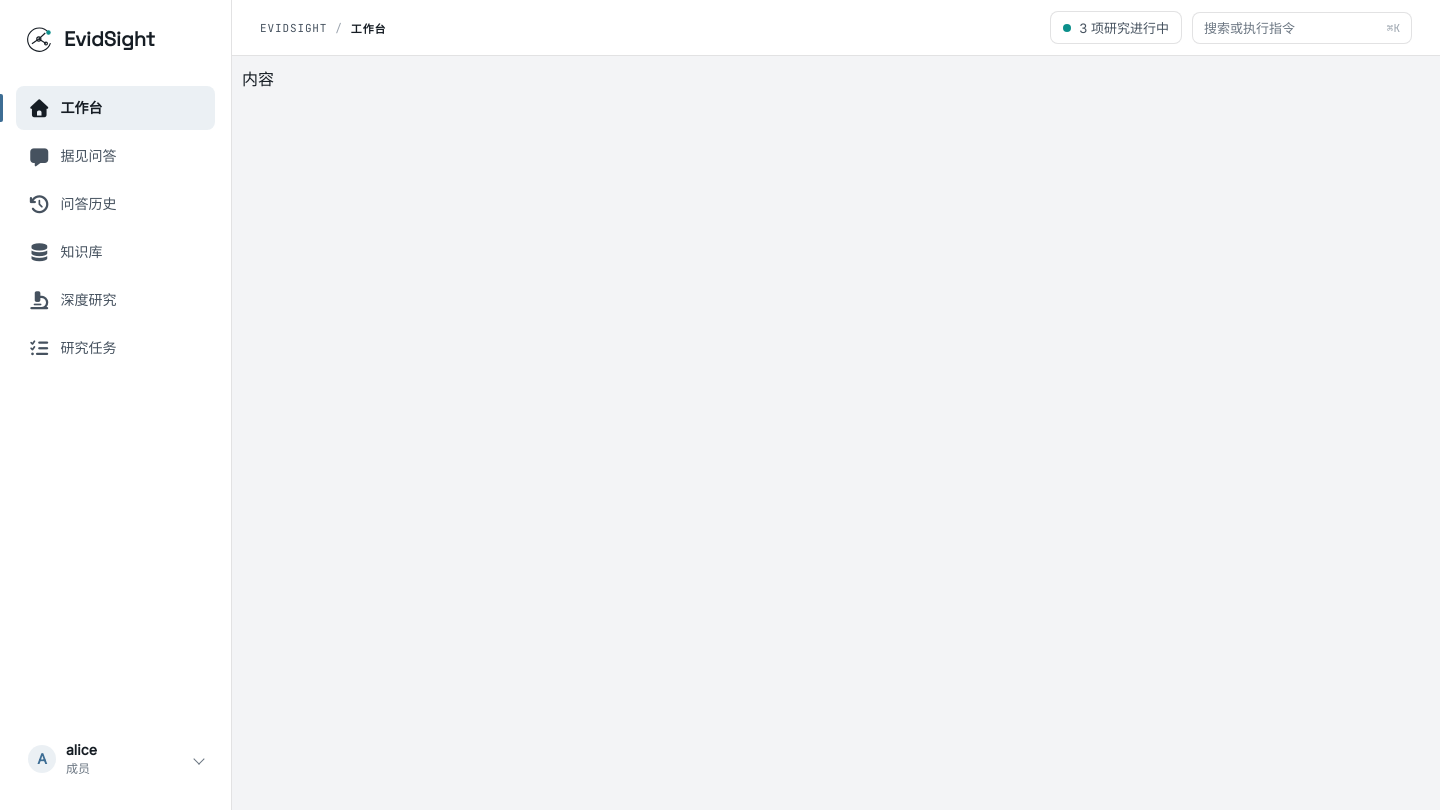
Test: 统一应用壳层 › 运行任务 Chip 常显真实数量，点击弹确认框，确认后跳转研究任务
Click the button "3 项研究进行中" at [1116, 28], box [1050,11,1182,44]
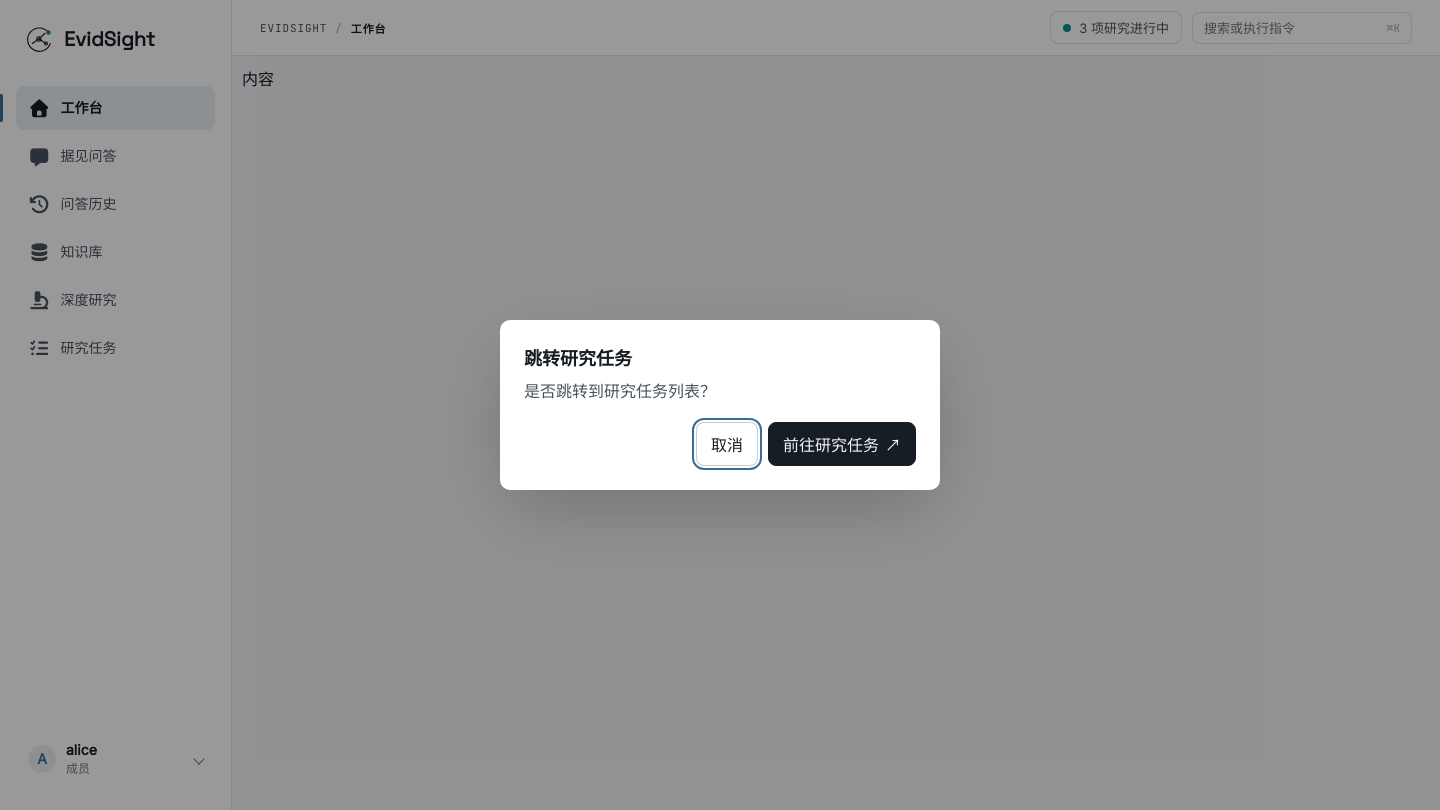
expect the dialog "跳转研究任务" is shown: met, box [500,320,940,490]
Click the button "前往研究任务" at [842, 444], box [768,422,916,466]
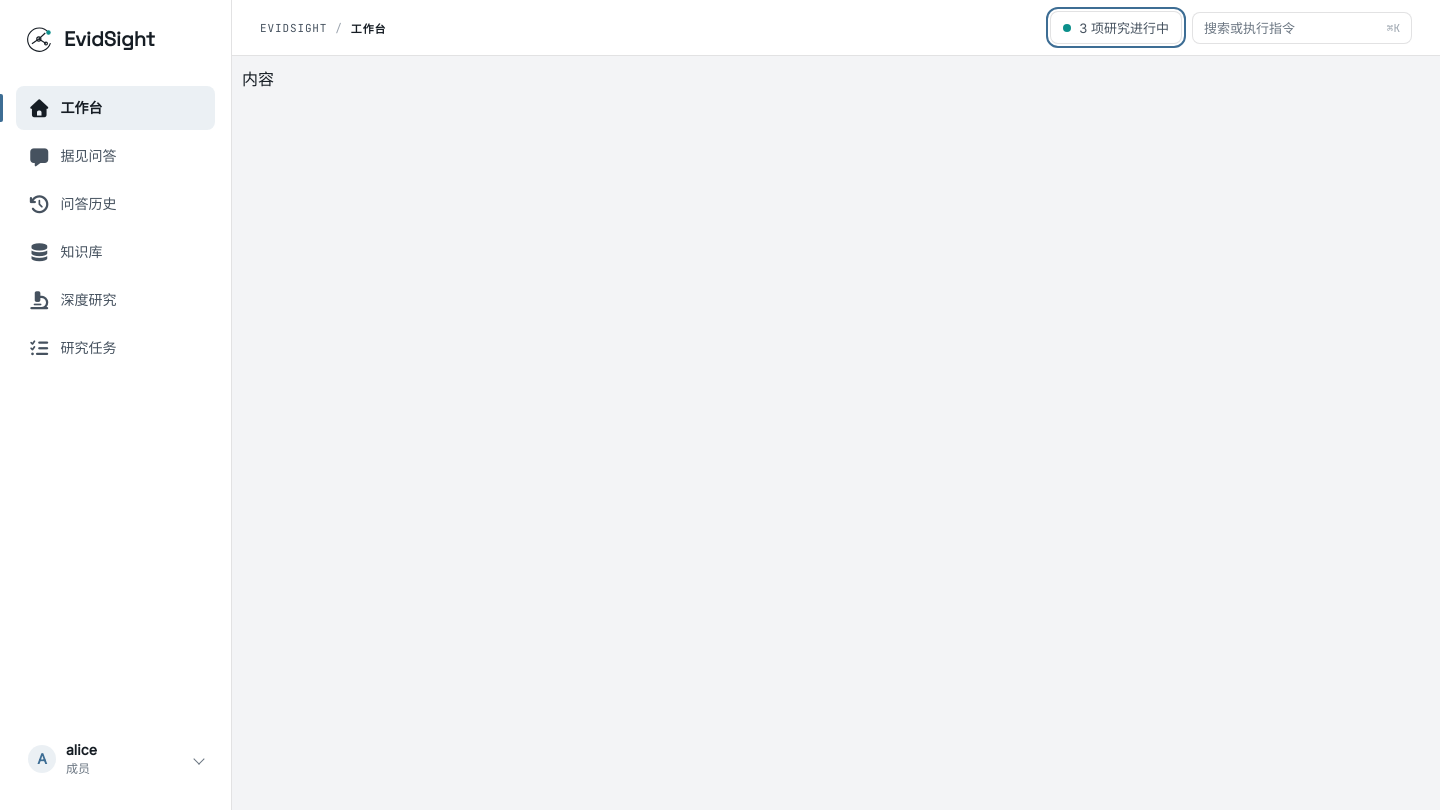
expect the heading "跳转研究任务" is gone: met
